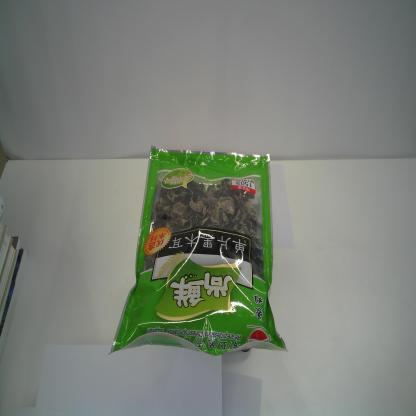Dried Food: (107, 145, 289, 357)
